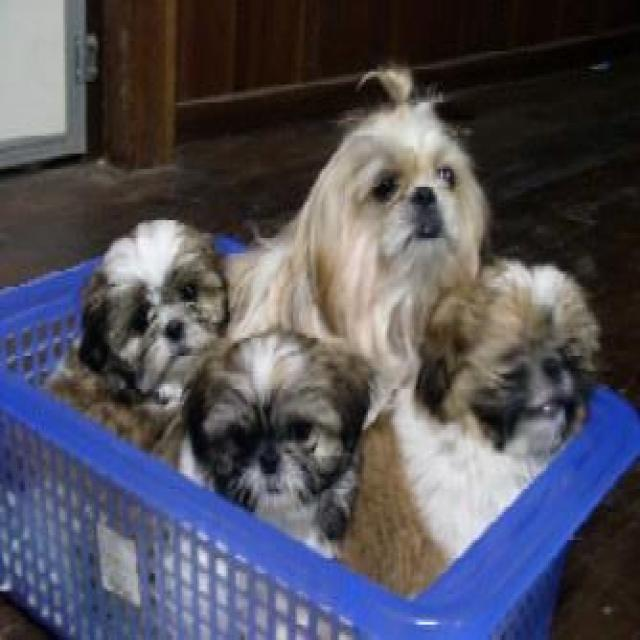shih_tzu: (218, 56, 496, 428), (334, 256, 604, 599), (180, 325, 381, 558), (50, 220, 228, 458)
